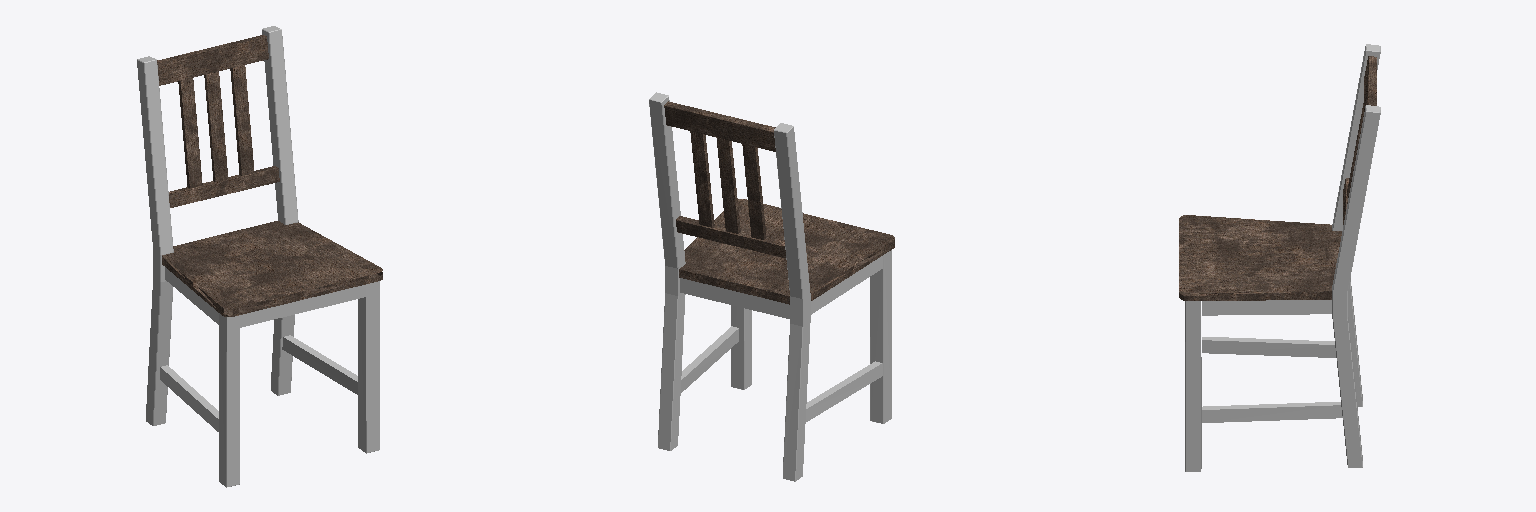
3 renders of one model, left to right at view 1: azimuth 30°, elevation 25°; view 2: azimuth 150°, elevation 25°; view 3: azimuth 270°, elevation 25°, orthographic.
Parts seen in each view (by area): view 1: Wood_chair.001; view 2: Wood_chair.001; view 3: Wood_chair.001.
Part boxes in pixels (x1,y1,x2,y2): Wood_chair.001: (137, 26, 382, 487); Wood_chair.001: (649, 92, 894, 481); Wood_chair.001: (1179, 44, 1380, 471).
Size of the model in its own units: 0.4148 by 0.8837 by 0.4521.
2 materials, 1 textured.